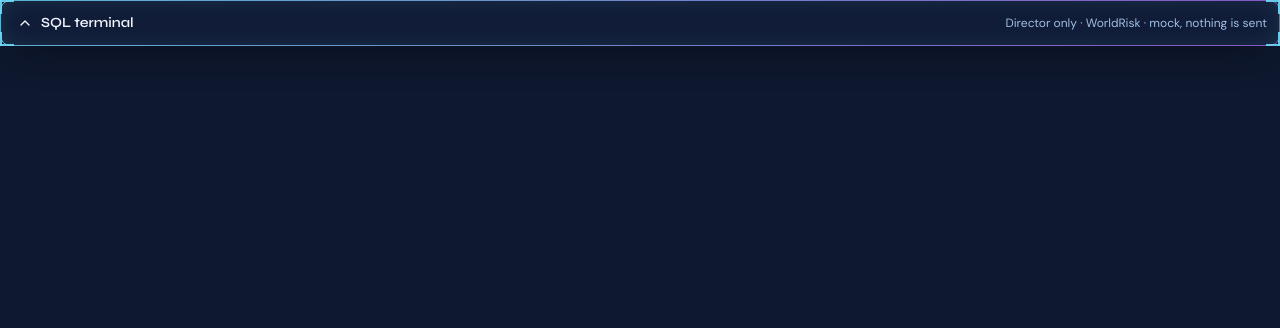
Test: SQL terminal (R7, mock) › starts collapsed and remembers its state
Later steps or results of the test are not shown.
Click the button "SQL terminal" at (75, 23), box [13, 13, 138, 33]
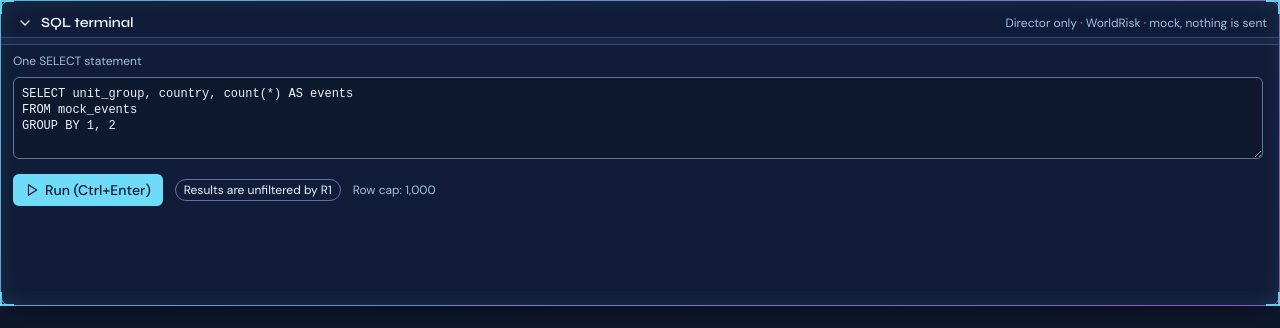
Now the button "SQL terminal" is expanded, box [13, 13, 138, 33]
